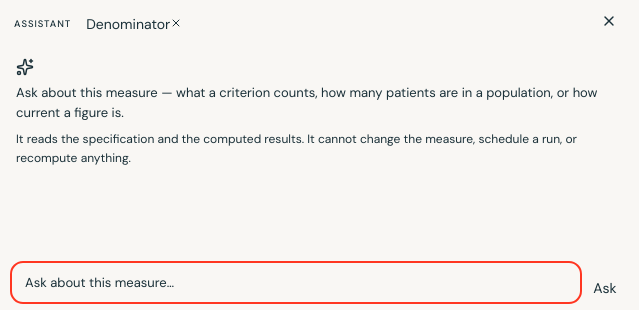
Test: references and artifacts in an answer (APP-ASSISTANT-REFS) › draws a chart from a fenced block, and says the figures are the assistant's
Type "How does it break down?" into the text box named "Ask a question" at point(296, 282), box [14, 264, 578, 300]
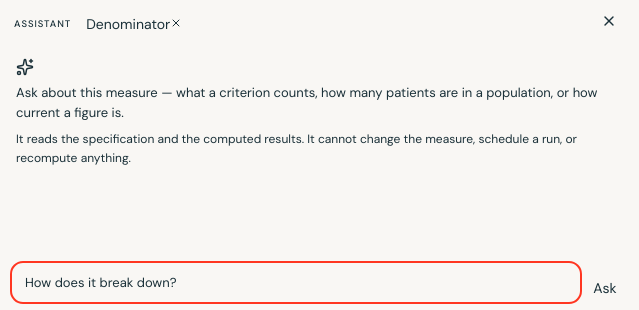
Click the button "Ask" at point(605, 288), box [587, 277, 623, 300]
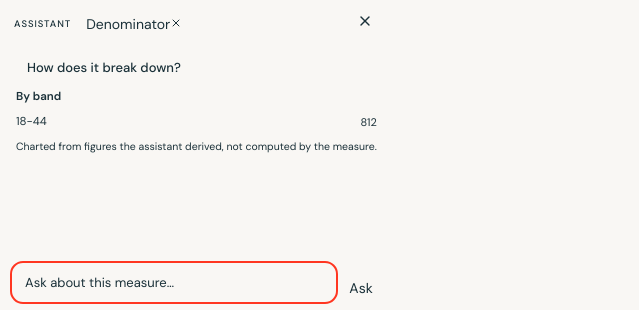
Result: the text "By band" is shown at [16, 88, 61, 104]
Result: the text "812" is shown at [360, 114, 377, 131]
Result: the text "figures the assistant derived" is shown at [16, 140, 377, 153]
